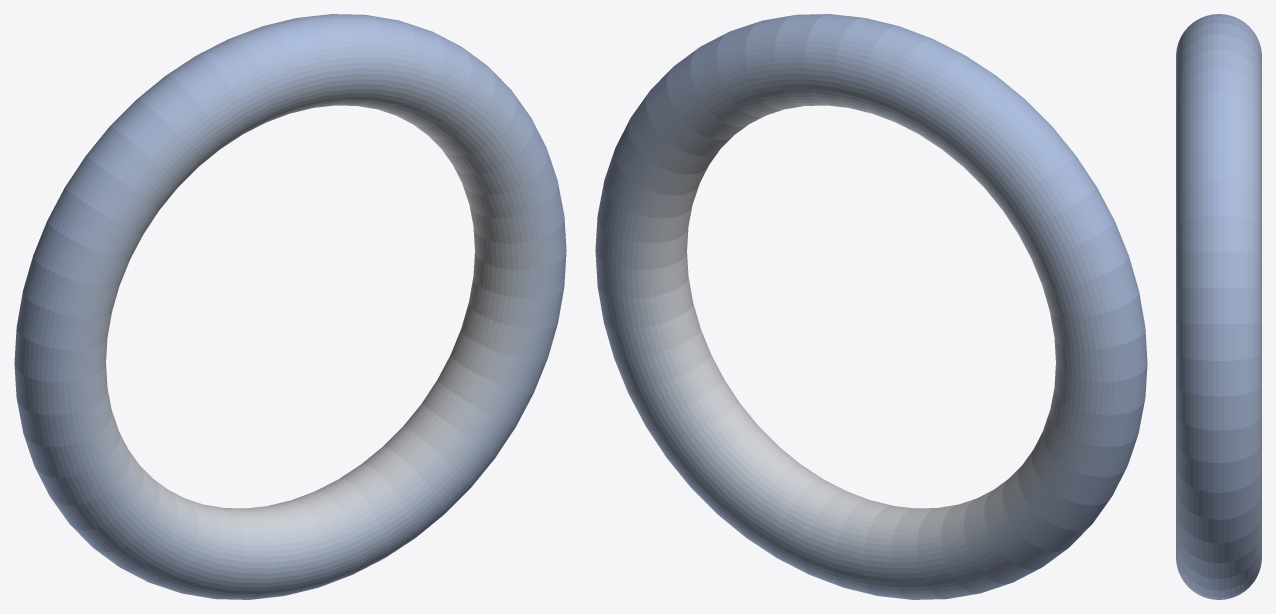
The picture shows the model from 3 angles, left to right: view 1: azimuth 30°, elevation 25°; view 2: azimuth 150°, elevation 25°; view 3: azimuth 270°, elevation 25°; orthographic projection. The views are drawn at different scales.
Parts seen in each view (by area): view 1: world; view 2: world; view 3: world.
Boxes of the visible parts, x1,y1,x2,y2 form: world: [14, 14, 566, 599]; world: [595, 14, 1147, 599]; world: [1176, 14, 1261, 599].
Bounding box in the file's own units: 28.13 × 28.08 × 4.13.
